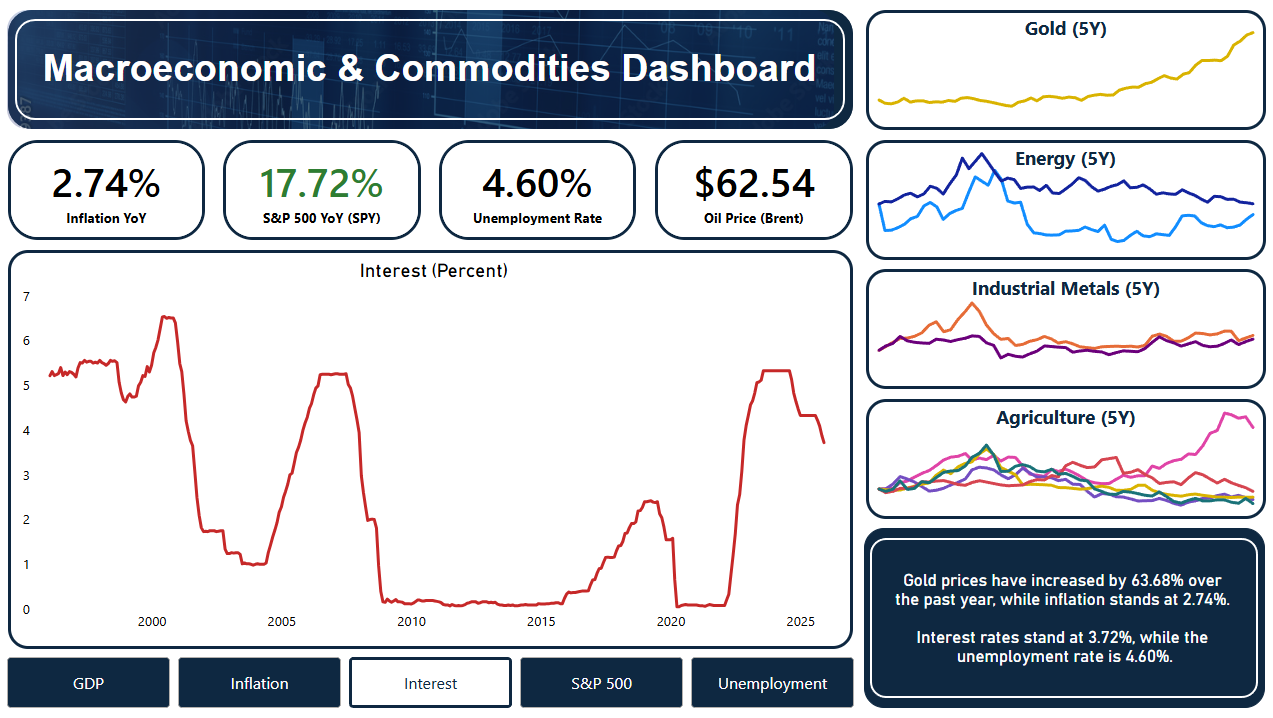

The dashboard page shown, as its layout file describes it:
{"tool":"powerbi","page":{"name":"Dashboard","canvas":[1280,720],"ordinal":0},"visuals":[{"type":"lineChart","title":"Agriculture","fields":{"Category":["commodities_data.date"],"Y":["commodities_data.Normalized Price"],"Series":["commodities_data.commodity"]},"box":[868.6,399.6,400,120],"z":0},{"type":"lineChart","title":"Energy","fields":{"Category":["commodities_data.date"],"Y":["commodities_data.Normalized Price"],"Series":["commodities_data.commodity"]},"box":[868.6,140.6,400,120],"z":1000},{"type":"lineChart","title":"Industrial Metal","fields":{"Category":["commodities_data.date"],"Y":["commodities_data.Normalized Price"],"Series":["commodities_data.commodity"]},"box":[868.6,270.1,400,120],"z":2000},{"type":"textbox","box":[868.6,399.7,400,50],"z":3000},{"type":"textbox","box":[868.6,270.7,400,50],"z":4000},{"type":"textbox","box":[868.6,141,399.8,54.5],"z":5000},{"type":"lineChart","title":"Gold","fields":{"Category":["commodities_data.date"],"Y":["commodities_data.Normalized Price"],"Series":["commodities_data.commodity"]},"box":[868.9,11.1,400,120],"z":6000},{"type":"textbox","box":[868.6,10.7,400.7,56.4],"z":7000},{"type":"shape","box":[10.7,10.7,845.2,119.6],"z":8000},{"type":"image","box":[9.7,10.7,827.7,119.6],"z":9000},{"type":"shape","box":[17.5,20.4,830.6,100.2],"z":10000},{"type":"textbox","box":[9.7,42.8,845.2,55.4],"z":11000},{"type":"cardVisual","fields":{"Data":["macro_data.S&P 500 YoY %"]},"box":[226.3,141,197.4,100],"z":12000},{"type":"cardVisual","fields":{"Data":["macro_data.Inflation YoY %"]},"box":[10.7,141,197.4,100],"z":13000},{"type":"cardVisual","title":"Oil (Brent)","fields":{"Data":["commodities_data.Oil Recent Price (Brent)"]},"box":[658.5,141,197.4,100.2],"z":14000},{"type":"cardVisual","fields":{"Data":["macro_data.Employment Recent Value"]},"box":[441.9,141,197.4,100],"z":15000},{"type":"lineChart","fields":{"Category":["macro_data.date"],"Y":["Max(macro_data.value)"],"Series":["macro_data.indicator"]},"box":[10.7,250.9,845.2,398.8],"z":16000},{"type":"card","fields":{"Values":["macro_data.Insight Text"]},"box":[866.6,529.1,401.7,179.9],"z":17000},{"type":"shape","box":[873.4,538.8,387.1,160.5],"z":18000},{"type":"advancedSlicerVisual","fields":{"Values":["macro_data.indicator"]},"box":[9.7,658.5,850,50.6],"z":19000}]}

Visuals, with their boxes in screenshot pixels (x1, y1, x2, y2), scaled from the page's 1280x720 canvas onto the 1273x718 screenshot:
"Agriculture" lineChart: BBox(864, 398, 1262, 518)
"Energy" lineChart: BBox(864, 140, 1262, 260)
"Industrial Metal" lineChart: BBox(864, 269, 1262, 389)
textbox: BBox(864, 399, 1262, 448)
textbox: BBox(864, 270, 1262, 320)
textbox: BBox(864, 141, 1261, 195)
"Gold" lineChart: BBox(864, 11, 1262, 131)
textbox: BBox(864, 11, 1262, 67)
shape: BBox(11, 11, 851, 130)
image: BBox(10, 11, 833, 130)
shape: BBox(17, 20, 843, 120)
textbox: BBox(10, 43, 850, 98)
cardVisual - macro_data.S&P 500 YoY %: BBox(225, 141, 421, 240)
cardVisual - macro_data.Inflation YoY %: BBox(11, 141, 207, 240)
"Oil (Brent)" cardVisual: BBox(655, 141, 851, 241)
cardVisual - macro_data.Employment Recent Value: BBox(439, 141, 636, 240)
lineChart - macro_data.date x Max(macro_data.value): BBox(11, 250, 851, 648)
card - macro_data.Insight Text: BBox(862, 528, 1261, 707)
shape: BBox(869, 537, 1254, 697)
advancedSlicerVisual - macro_data.indicator: BBox(10, 657, 855, 707)
